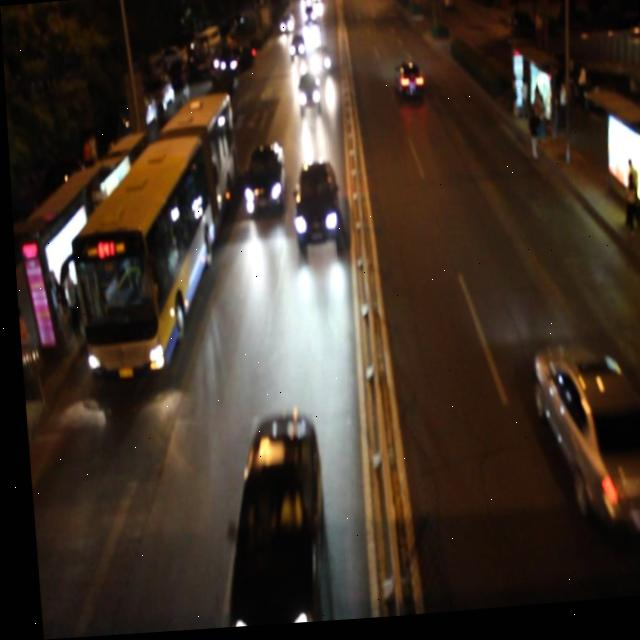car: (210, 409, 324, 630), (524, 341, 640, 551), (288, 161, 338, 247), (239, 144, 286, 220), (391, 63, 422, 107), (293, 75, 321, 116), (309, 45, 331, 78), (285, 34, 305, 66)
van: (55, 91, 238, 379)
